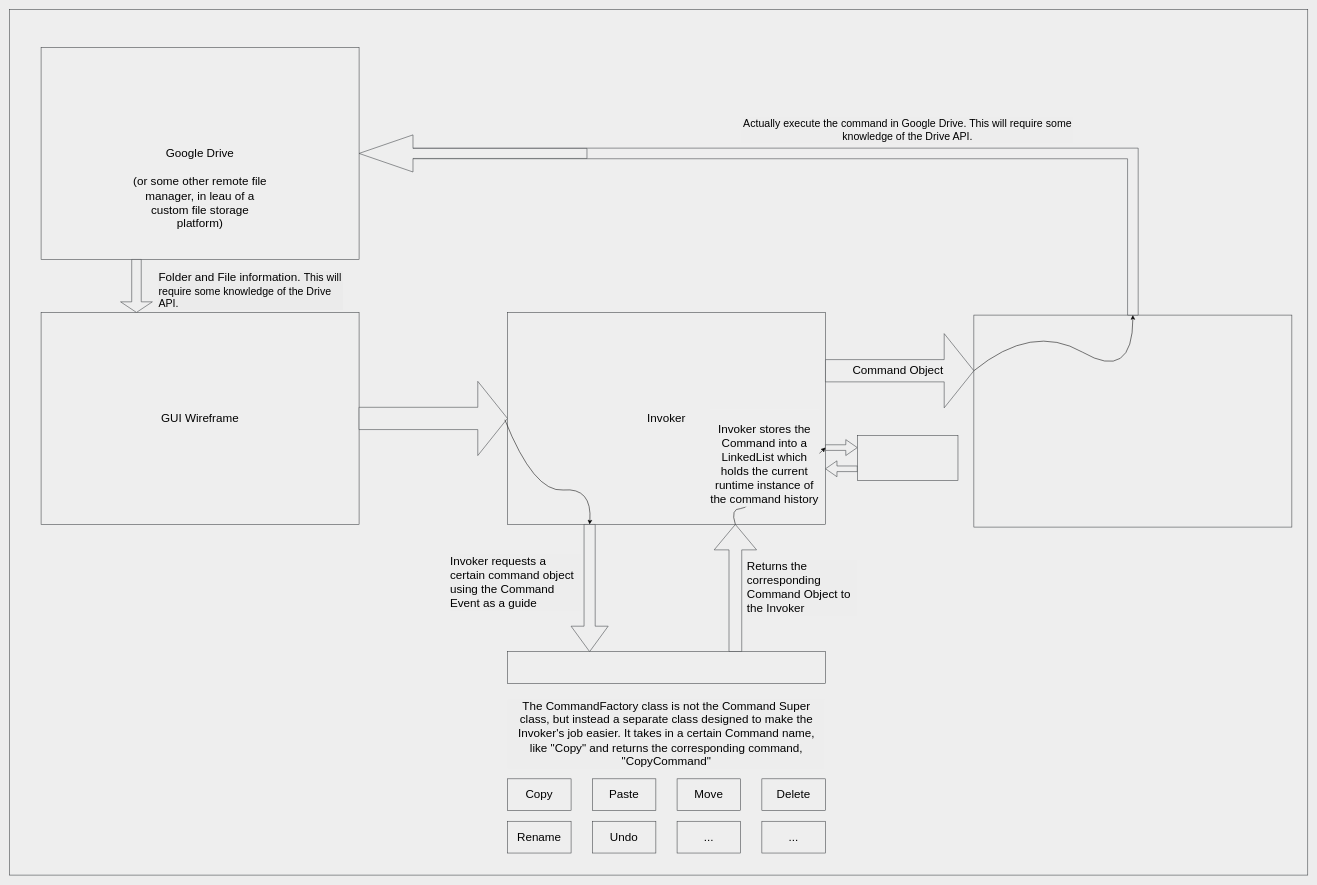
The diagram is 1317 pixels wide and 885 high, and some of its shapes have lost their labels. The box of each missing label's shape, as (x1, y1, x2, y2) in pixels:
Command Event (copy, paste, etc): (359, 381, 507, 456)
Command History: (857, 435, 958, 481)
CommandFactory class: (507, 651, 825, 683)
Executor: (973, 315, 1292, 527)
